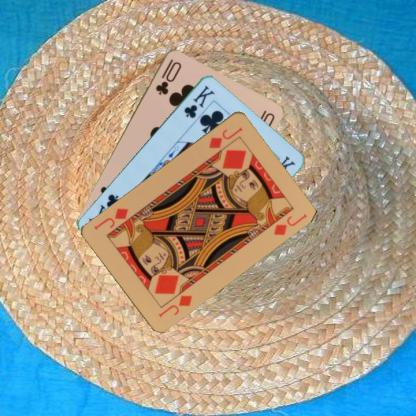10c: (152, 56, 182, 97)
Jd: (206, 124, 244, 150), (156, 292, 194, 318)
Kc: (181, 83, 216, 119)
